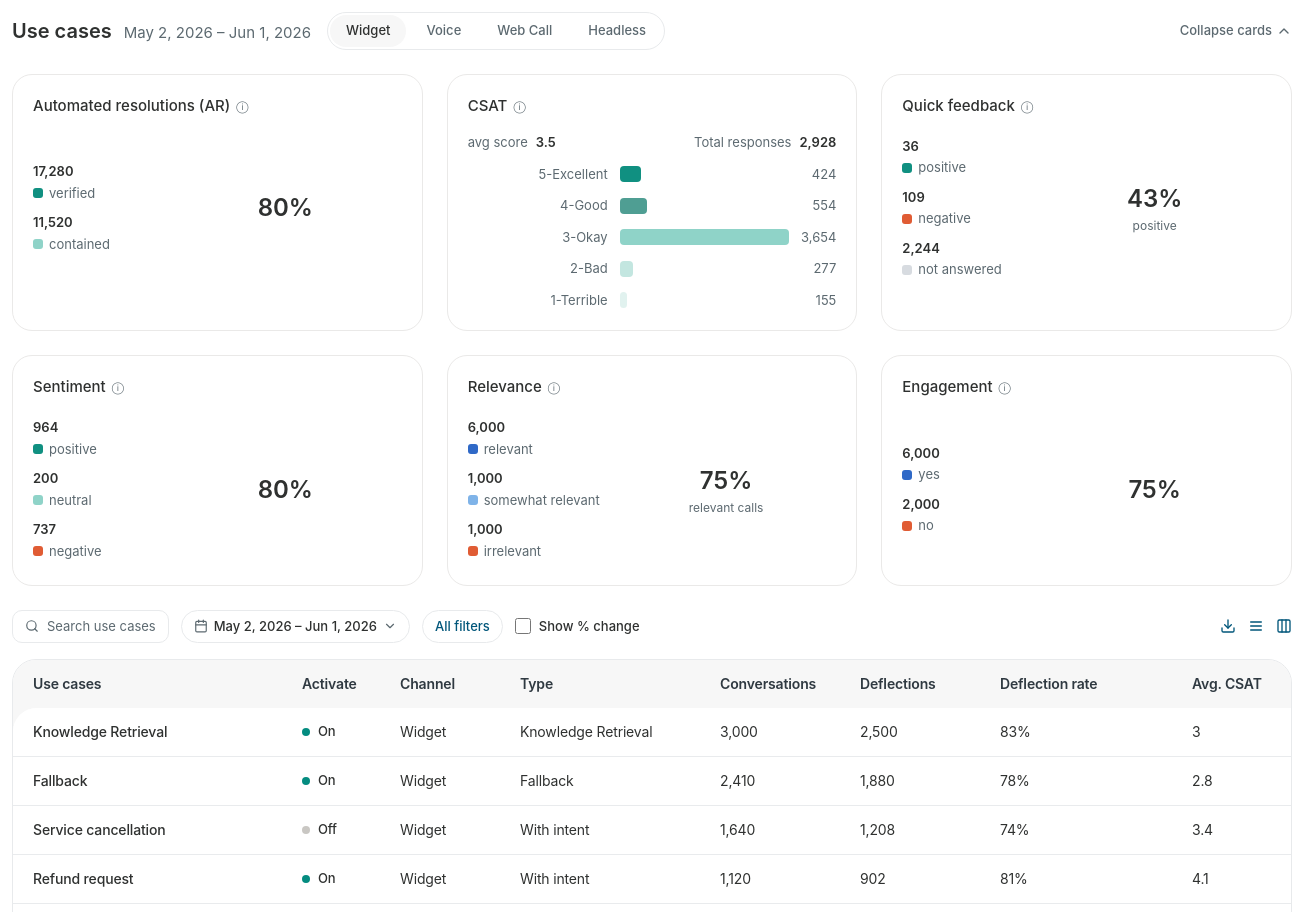
it: UseCasesView › rescopes the rows when the channel changes
Expected: the text "3,000" is shown, [720, 723, 758, 740]
Click the tab "Voice". click: coordinates (444, 31)
box: [410, 15, 477, 46]
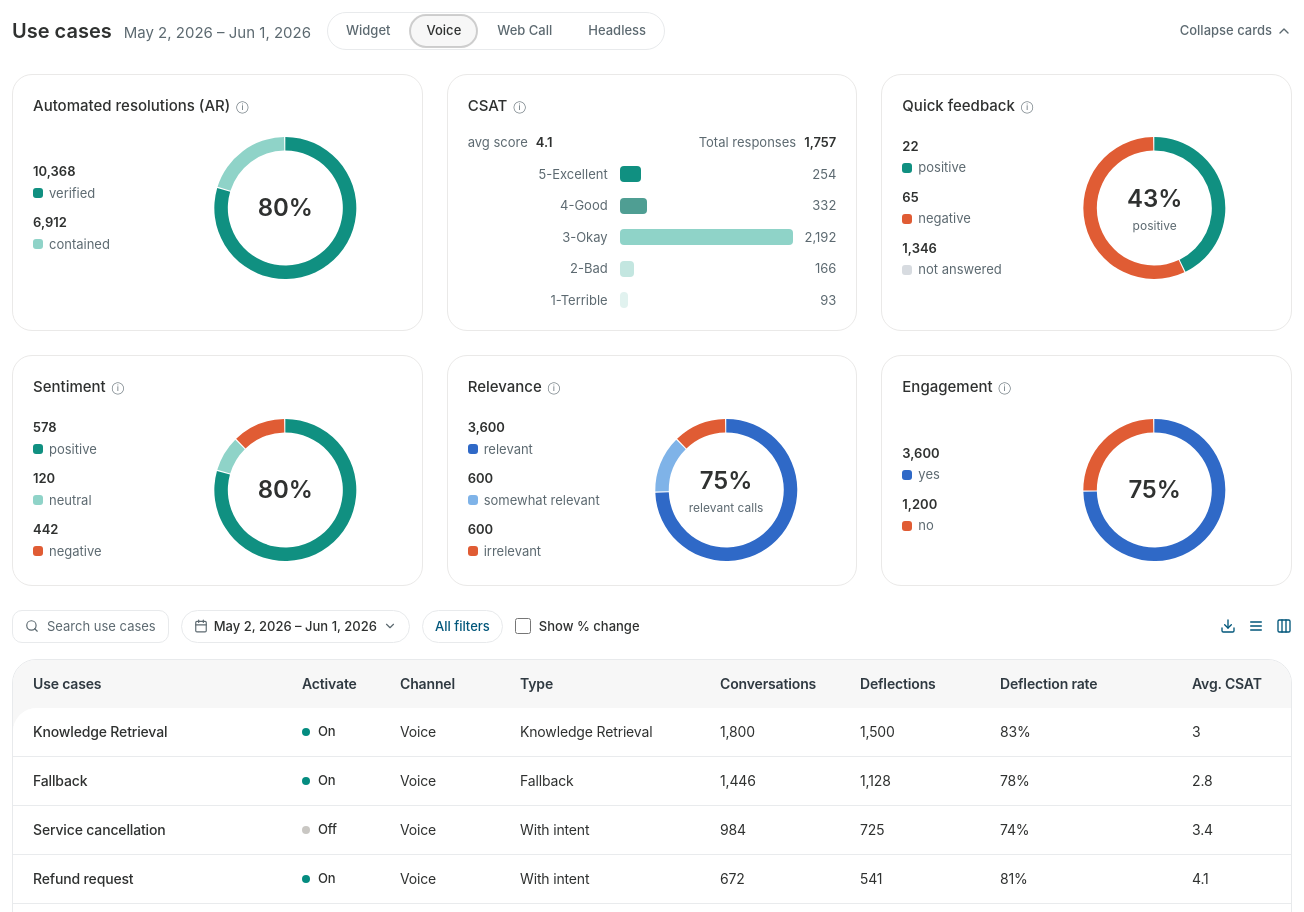
Expected: the text "3,000" is gone
Expected: the text "1,800" is shown, [720, 723, 755, 740]
